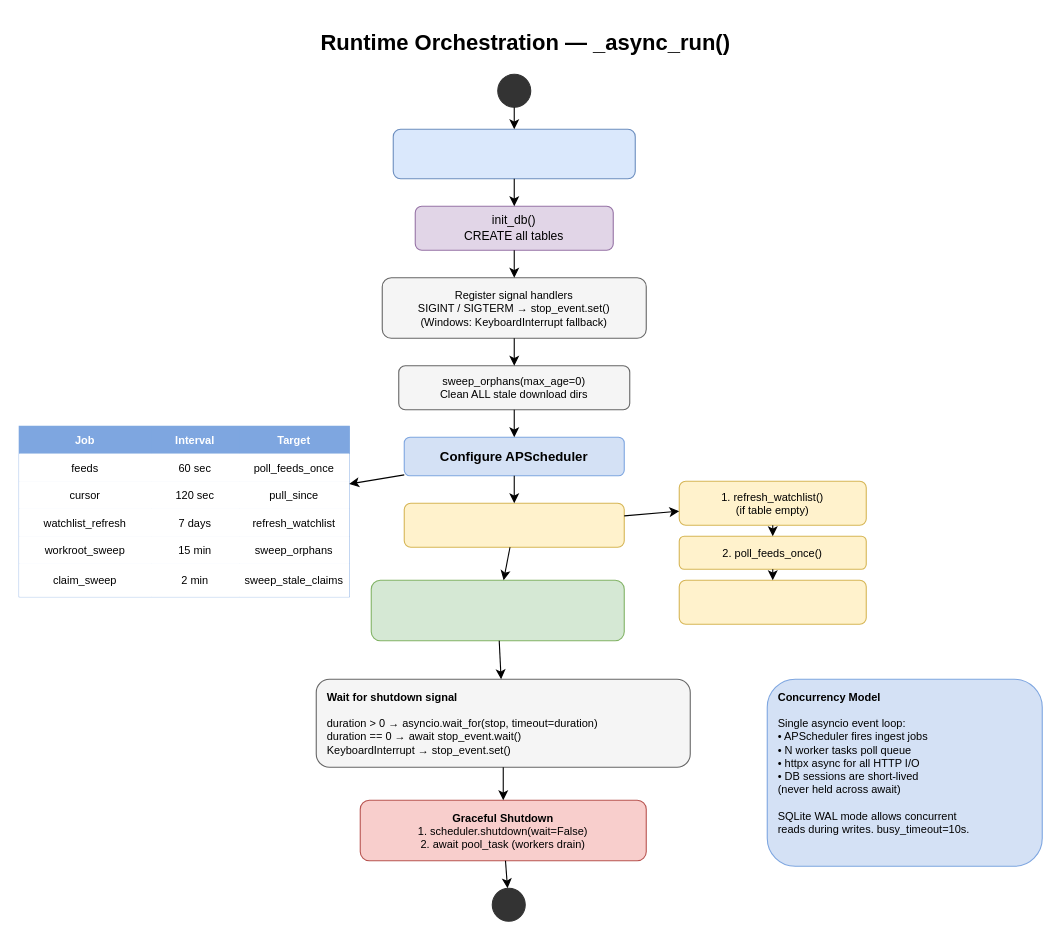
Image size: 1062x941. Some labels were removed from this diagram. Here are the shapes that lost their labels. From the top down, the box of each, then its label:
(392, 128, 635, 179): CLI: pypi-scanner run --workers N --duration N
(403, 502, 624, 547): Boot-time One-shot Ingest (non-fatal if fails)
(370, 579, 624, 641): Start Worker Pool run_pool(num_workers, stop_event) N concurrent asyncio tasks
(678, 579, 866, 624): 3. pull_since() (in asyncio.to_thread)
